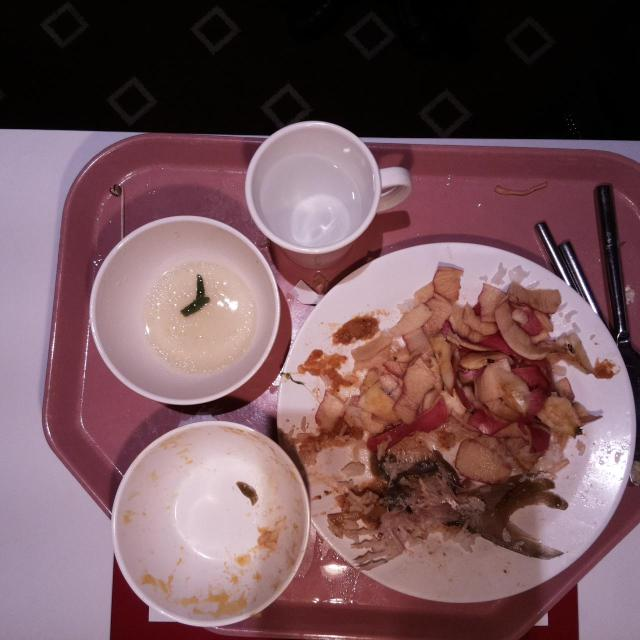Apple-peel: (321, 289, 565, 485)
Bone-fish: (347, 468, 558, 572)
Vegetable: (180, 274, 210, 318)
